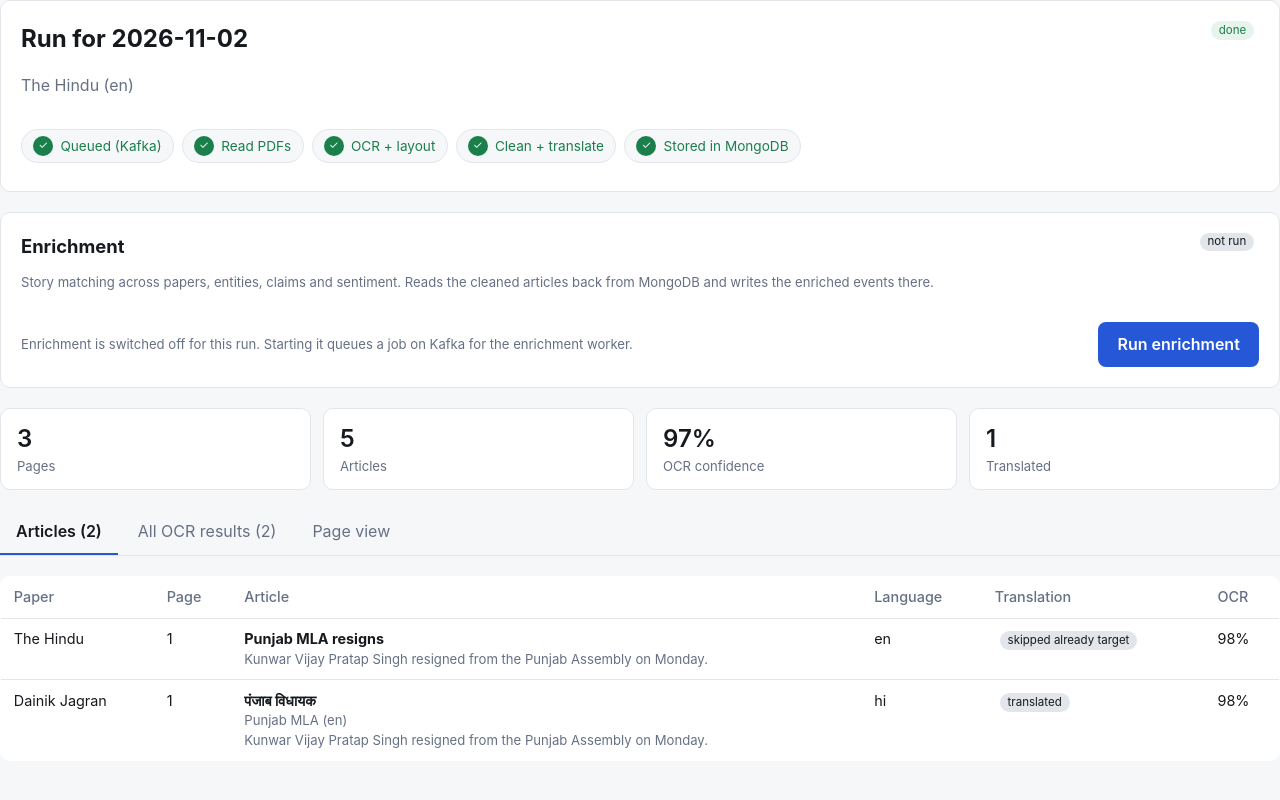
RunPage › two-phase flow › reports why enrichment could not be started
Click the button "Run enrichment". click: (1179, 344)
box: left=1098, top=322, right=1259, bottom=367
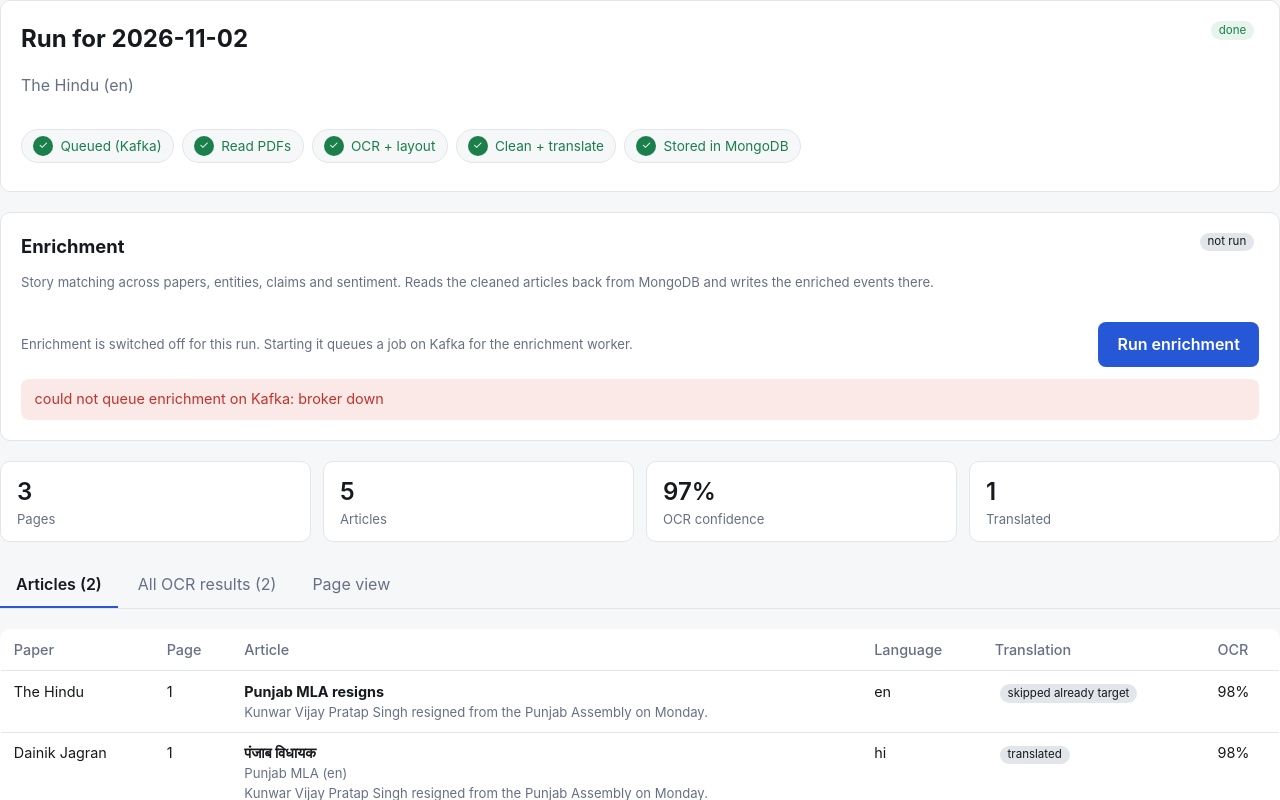
Result: the text "could not queue enrichment on Kafka: broker down" is shown at left=21, top=379, right=1259, bottom=420
